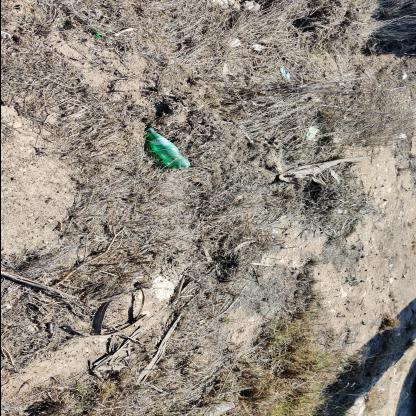plastik: (144, 128, 193, 171)
